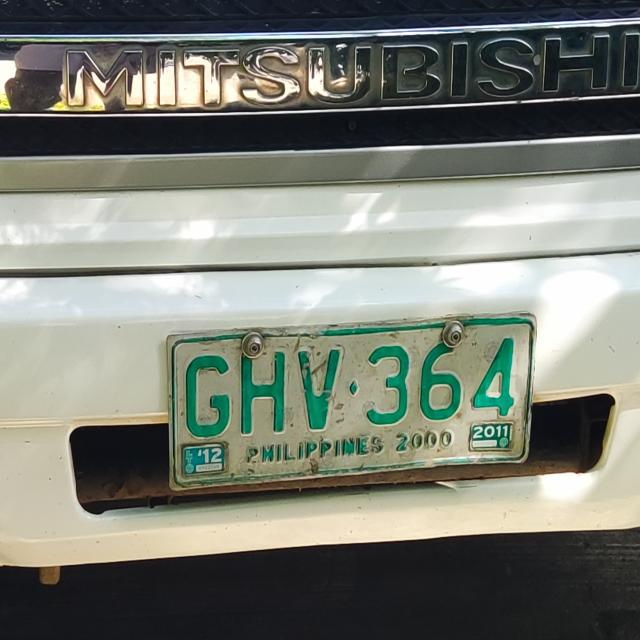plate: (159, 302, 544, 499)
